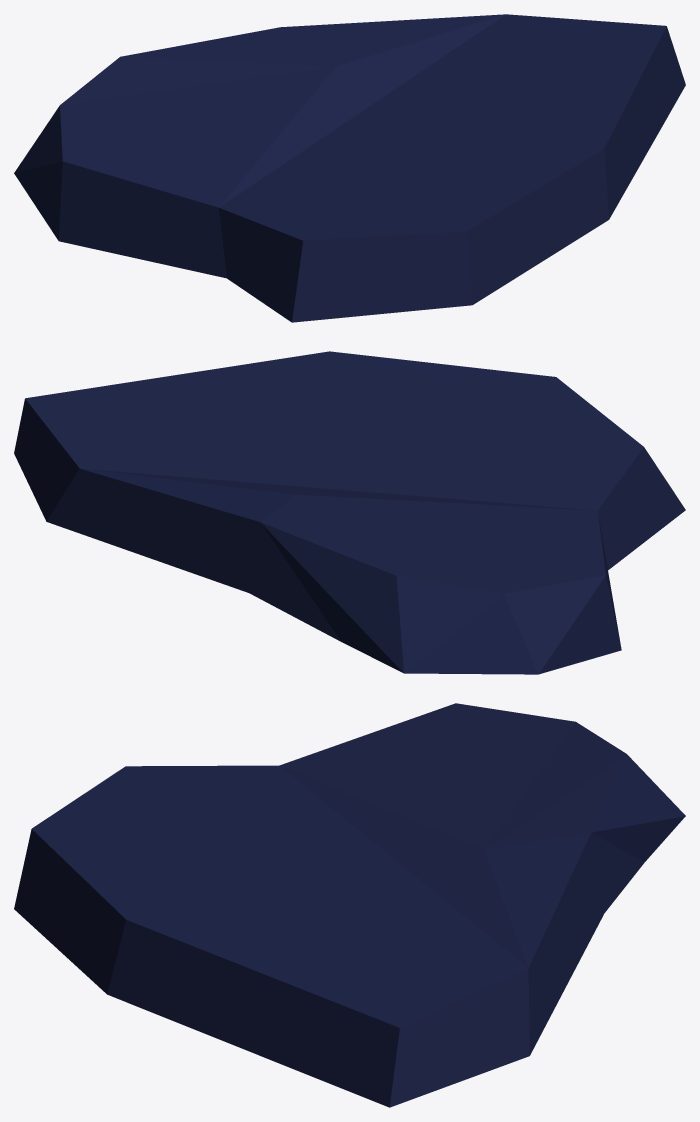
The model's file is Cave_stone_21.glb.
3 renders of one model, top to bottom at view 1: azimuth 30°, elevation 25°; view 2: azimuth 150°, elevation 25°; view 3: azimuth 270°, elevation 25°, orthographic. The views are drawn at different scales.
Visible parts, largest first — view 1: Cave_stone_21; view 2: Cave_stone_21; view 3: Cave_stone_21.
Part boxes in pixels (left/top/right/bottom): Cave_stone_21: left=14, top=14, right=685, bottom=322; Cave_stone_21: left=14, top=351, right=685, bottom=674; Cave_stone_21: left=14, top=703, right=685, bottom=1107.
Bounding box in the file's own units: 4.45 × 0.792 × 3.59.
